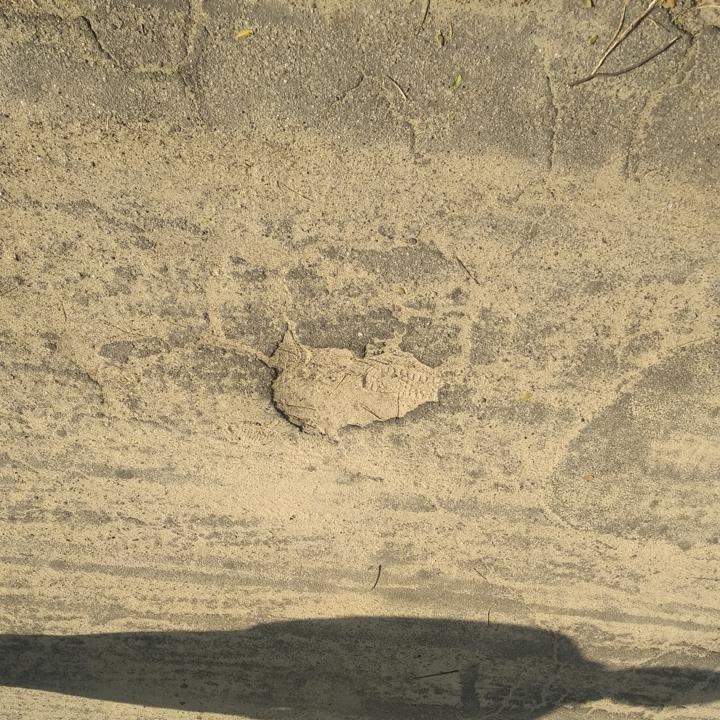pothole: (259, 322, 448, 445)
